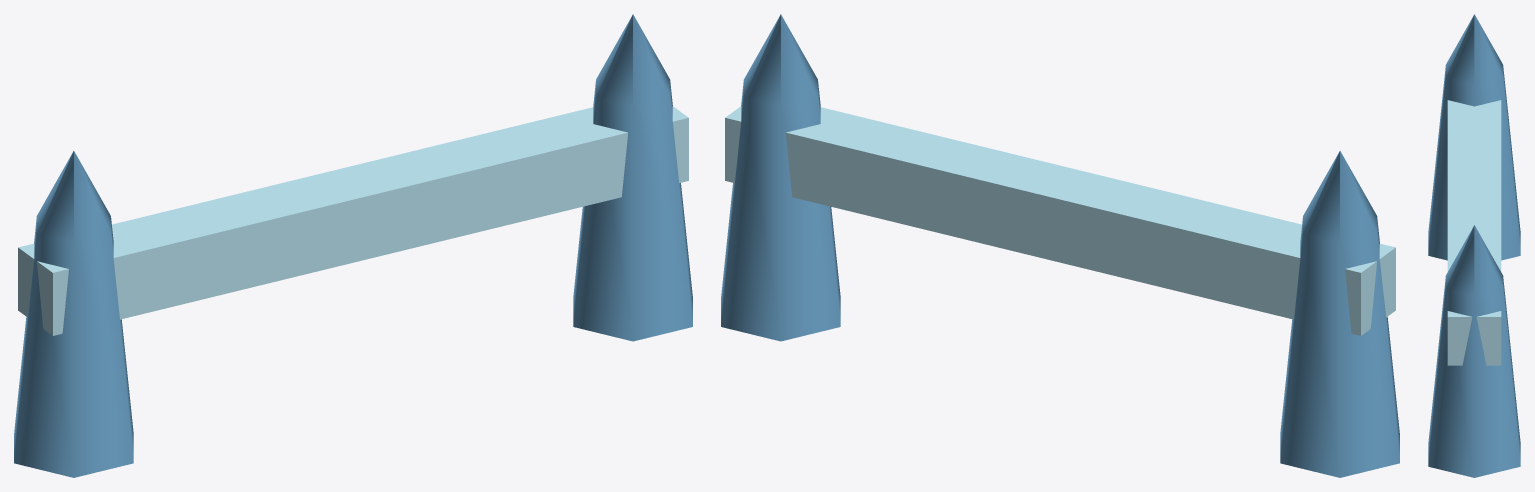
The model's file is rp_icerail.glb.
3 renders of one model, left to right at view 1: azimuth 30°, elevation 25°; view 2: azimuth 150°, elevation 25°; view 3: azimuth 270°, elevation 25°, orthographic. The views are drawn at different scales.
Parts seen in each view (by area): view 1: Ice_Rail; view 2: Ice_Rail; view 3: Ice_Rail.
Boxes of the visible parts, x1=… form: Ice_Rail: x1=14, y1=14, x2=692, y2=477; Ice_Rail: x1=721, y1=14, x2=1399, y2=477; Ice_Rail: x1=1428, y1=14, x2=1520, y2=477.
Bounding box in the file's own units: 1.24 × 0.52 × 0.1891.
